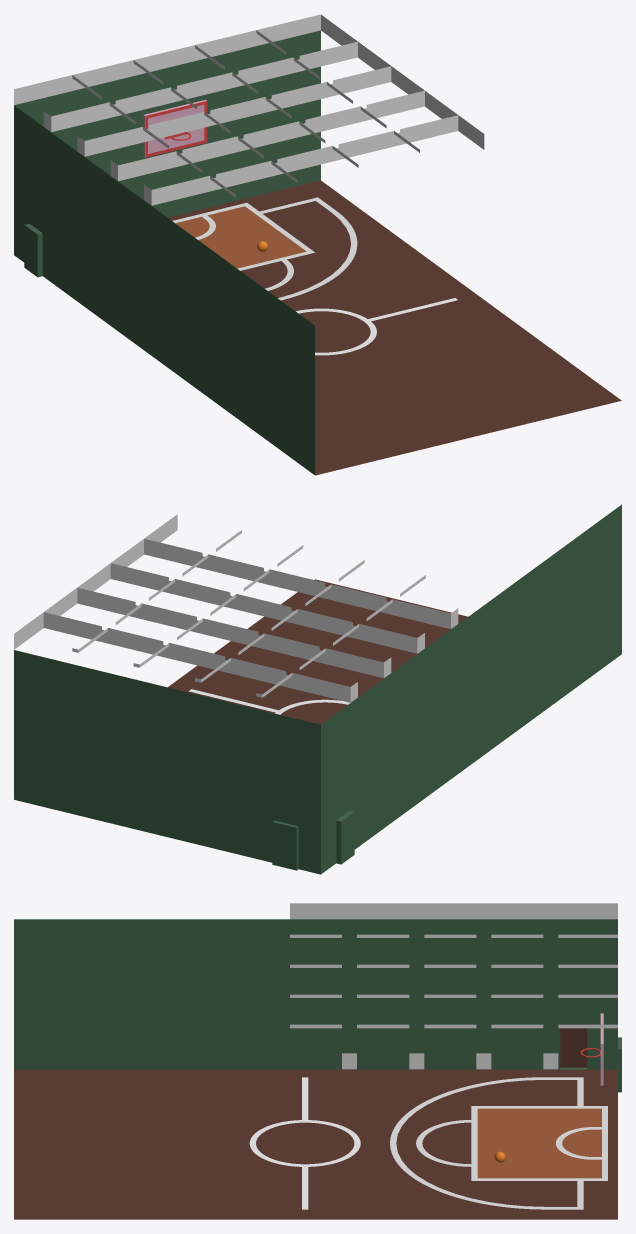
File: basketball_court2.glb
3 renders of one model, top to bottom at view 1: azimuth 30°, elevation 25°; view 2: azimuth 150°, elevation 25°; view 3: azimuth 270°, elevation 25°, orthographic.
Parts seen in each view (by area): view 1: ground, wall1, ceiling, wall2, groundClearer, courtLinesBasket, basketPannelBase, courtLinesCenter; view 2: wall2, wall1, ceiling, ground, courtLinesCenter; view 3: wall1, ground, ceiling, groundClearer, courtLinesBasket, courtLinesCenter, door1.
Part boxes in pixels (x1=…): ground: x1=168, y1=180, x2=621, y2=475; wall1: x1=14, y1=105, x2=314, y2=474; ceiling: x1=14, y1=14, x2=484, y2=205; wall2: x1=14, y1=30, x2=320, y2=217; groundClearer: x1=175, y1=206, x2=306, y2=268; courtLinesBasket: x1=172, y1=197, x2=357, y2=300; basketPannelBase: x1=143, y1=100, x2=206, y2=157; courtLinesCenter: x1=296, y1=298, x2=457, y2=355; wall2: x1=14, y1=650, x2=320, y2=874; wall1: x1=321, y1=504, x2=621, y2=873; ceiling: x1=14, y1=514, x2=458, y2=702; ground: x1=168, y1=579, x2=467, y2=724; courtLinesCenter: x1=189, y1=689, x2=350, y2=714; wall1: x1=14, y1=919, x2=617, y2=1069; ground: x1=14, y1=1069, x2=617, y2=1219; ceiling: x1=290, y1=903, x2=617, y2=1069; groundClearer: x1=477, y1=1108, x2=601, y2=1178; courtLinesBasket: x1=390, y1=1077, x2=607, y2=1209; courtLinesCenter: x1=249, y1=1077, x2=360, y2=1209; door1: x1=560, y1=1028, x2=587, y2=1067.
Size of the model in its own units: 15.25 by 7.75 by 25.67.
7 materials, 1 textured.
